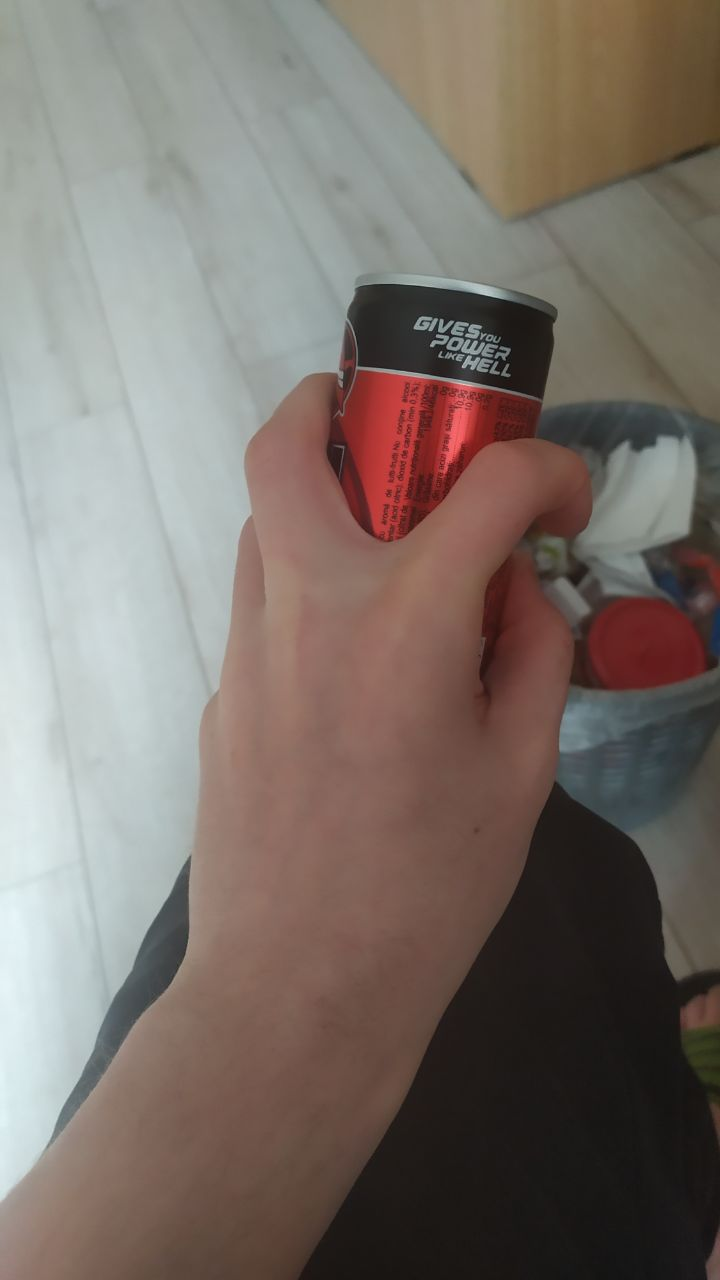Can: (320, 269, 563, 565)
